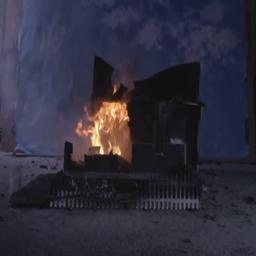fire: (73, 84, 131, 156)
